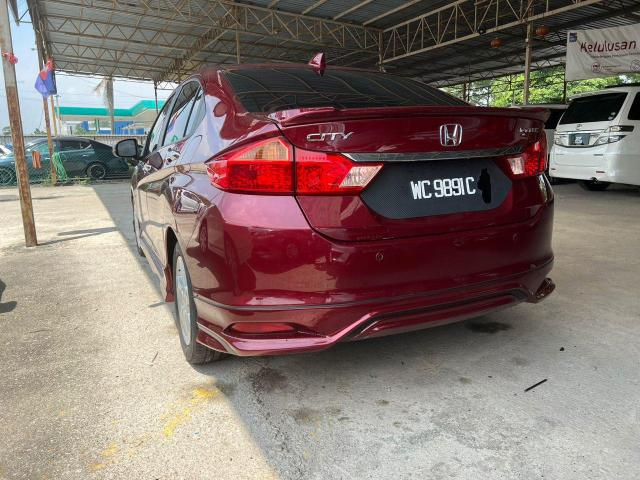License_Plate: (388, 168, 499, 213)
car: (109, 57, 561, 367)
